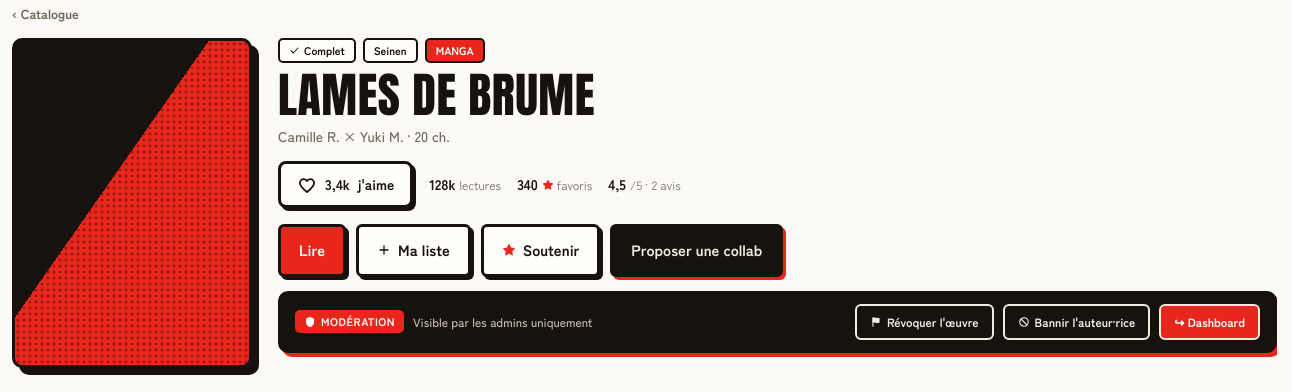
Scenario: WorkHero (DR-3 FE-2) › DR-9: "＋ Ma liste" toggles saved state and the favoris stat count
Click the button with aria-label "Ajouter à ma liste" at (414, 250), box [356, 224, 471, 277]
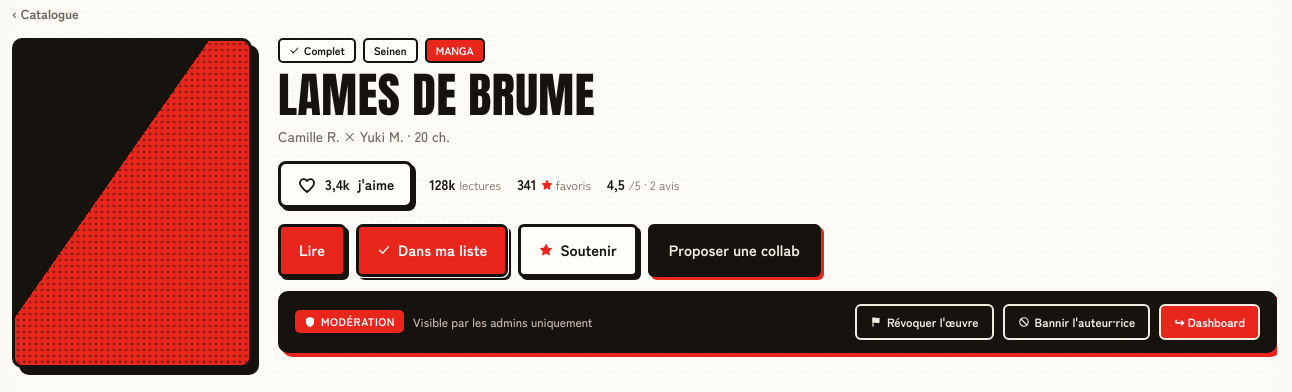
expect the text "341" is shown: met, box [517, 174, 536, 195]
